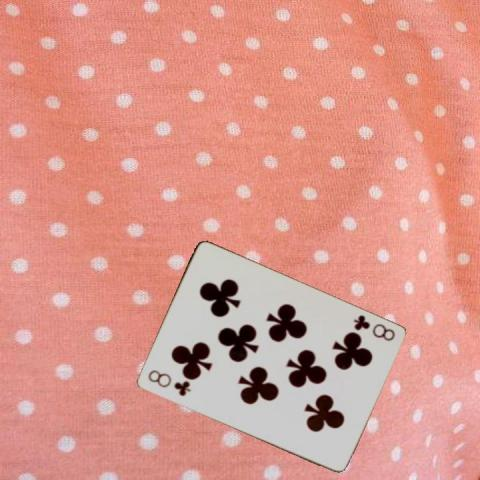8c: (144, 367, 191, 398), (350, 312, 396, 343)
